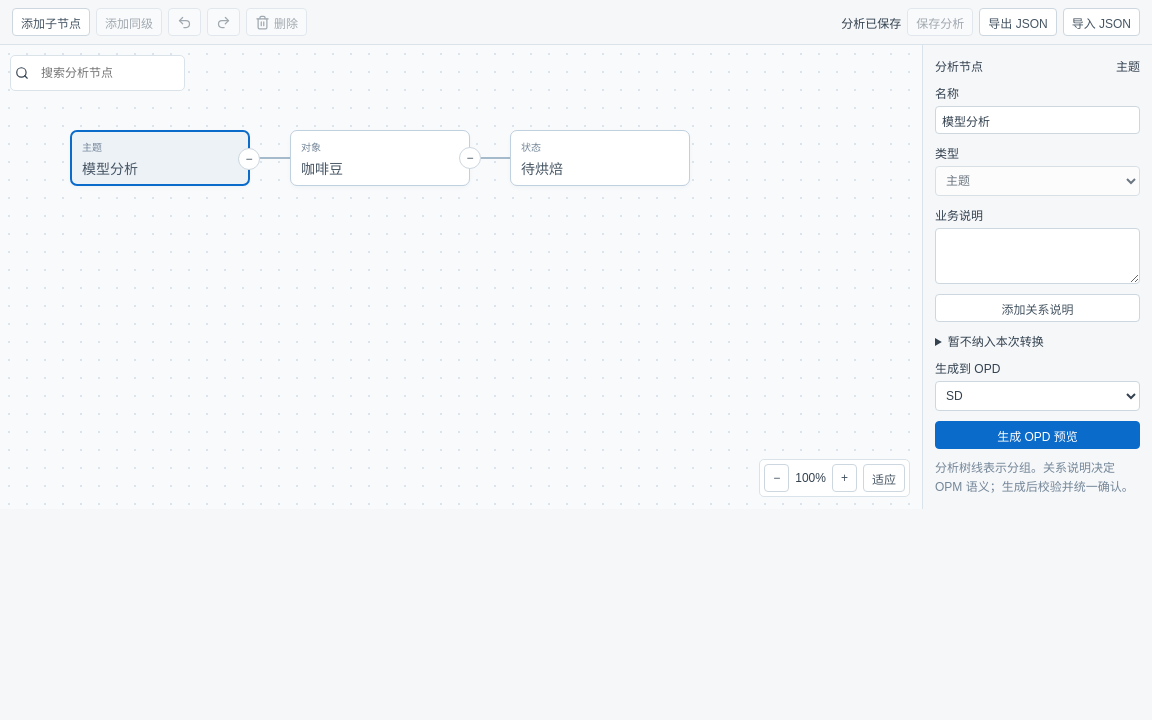
响应式文档可通过键盘编辑、撤销并保存，分析保存不提交正式命令
Press Tab in the element with test id "mindmap-canvas", box [0,45,922,509]
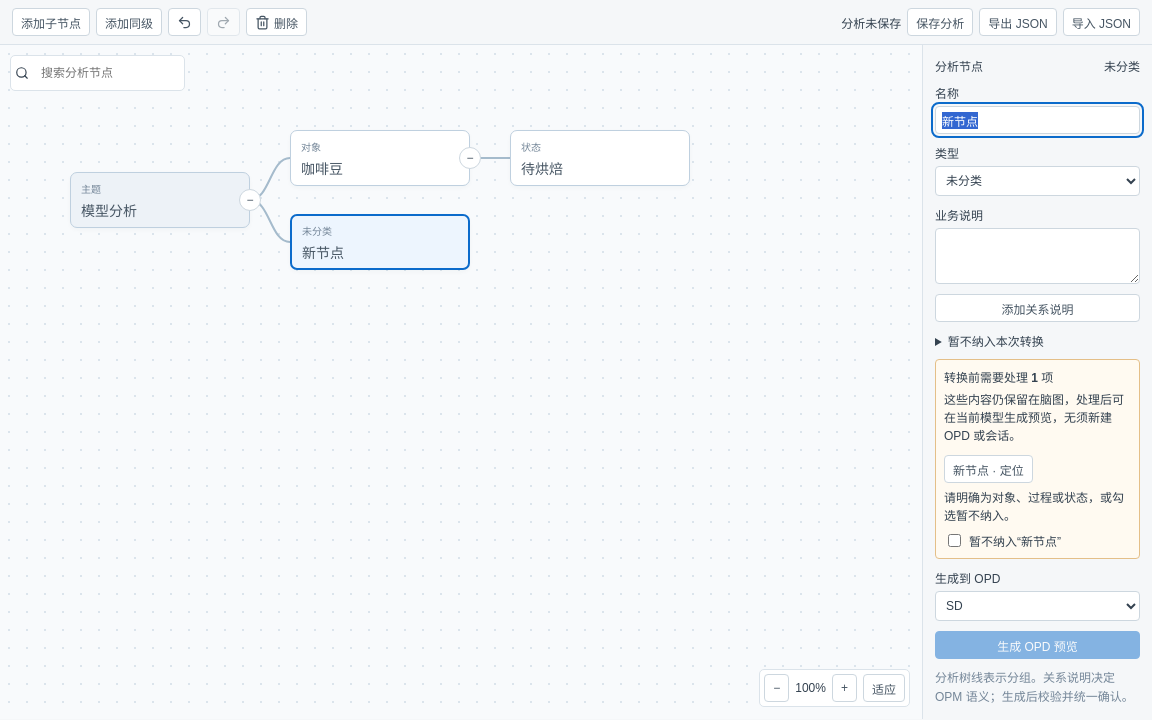
Check: the number of elements with class "mindmap-node" is 4, box [510,130,690,186]; [290,130,470,186]; [290,214,470,270]; [70,172,250,228]
Replace the text in the field with test id "mindmap-node-label" with "新增过程" at (1038, 120), box [935,106,1140,134]
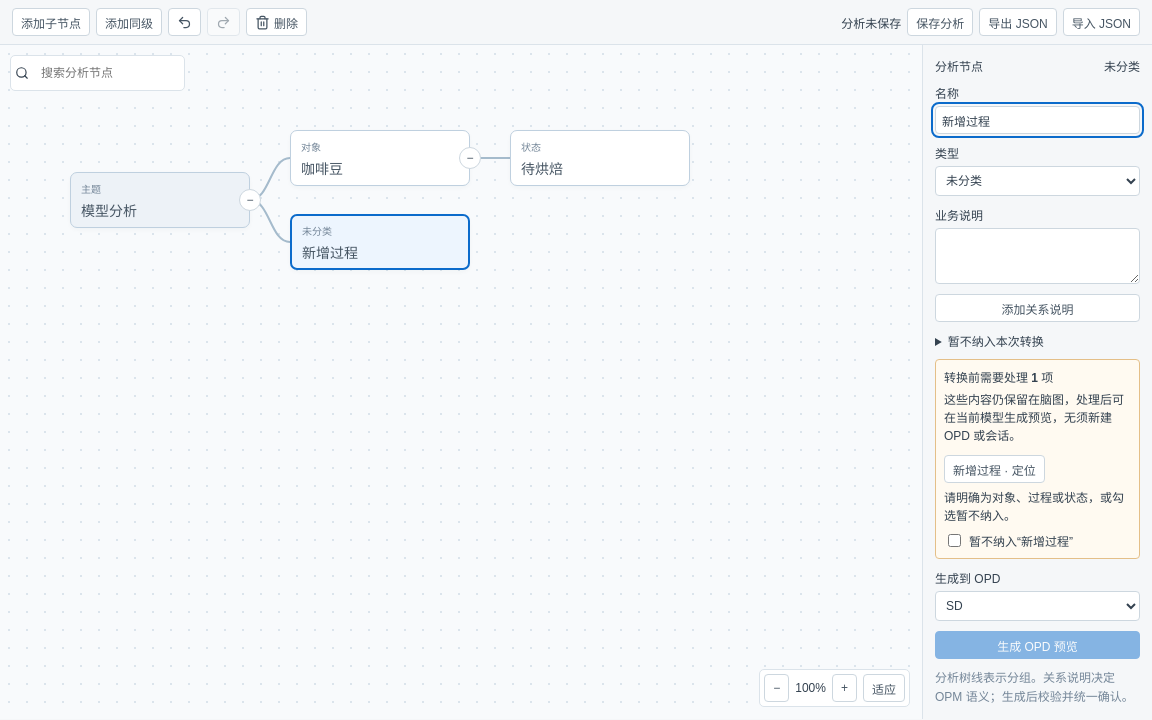
Select "过程" in the dropdown with test id "mindmap-node-kind" at (1038, 181), box [935,166,1140,196]
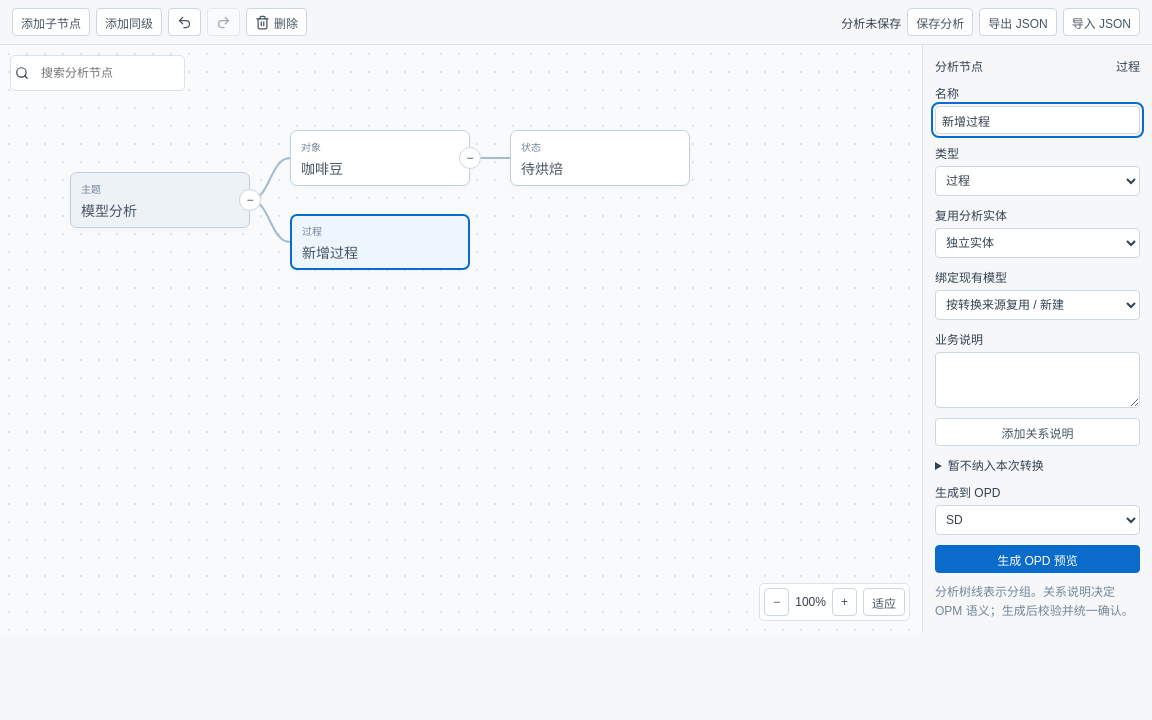
Click the button with test id "mindmap-save".
click(940, 22)  # box [907,8,973,36]
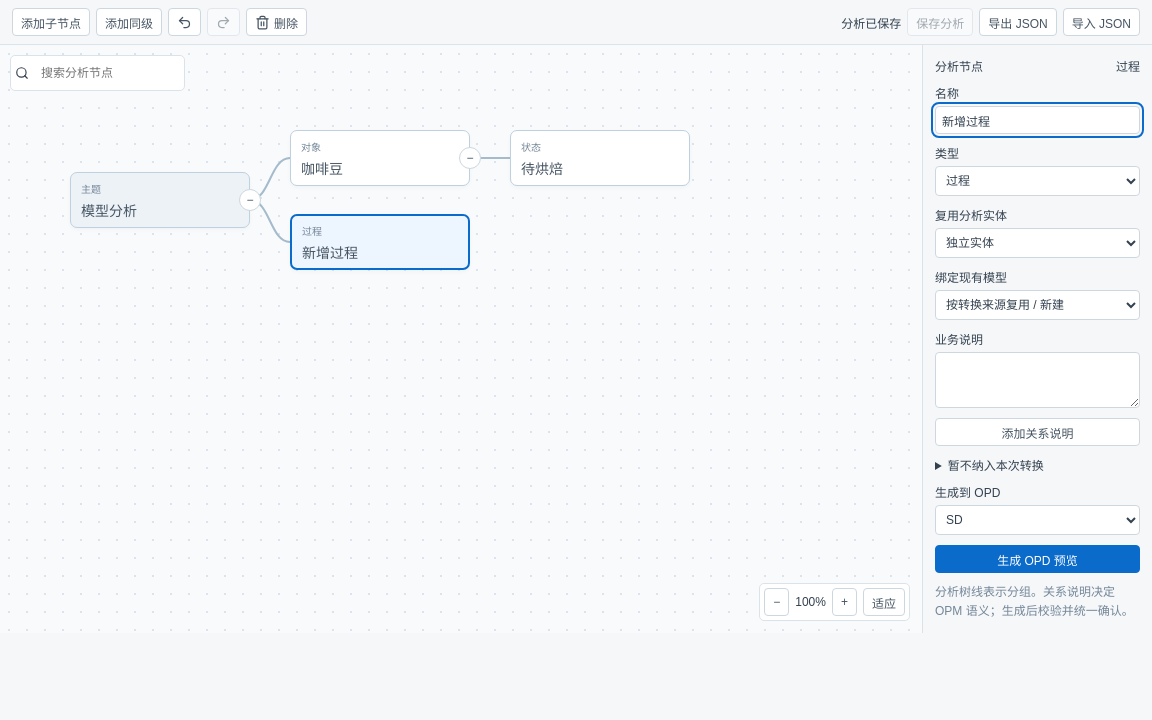
Check: the text "新增过程" is shown, box [302,242,358,262]
Check: the message with test id "mindmap-save-state" reads "分析已保存", box [841,16,901,30]
Press z in the element with test id "mindmap-canvas"
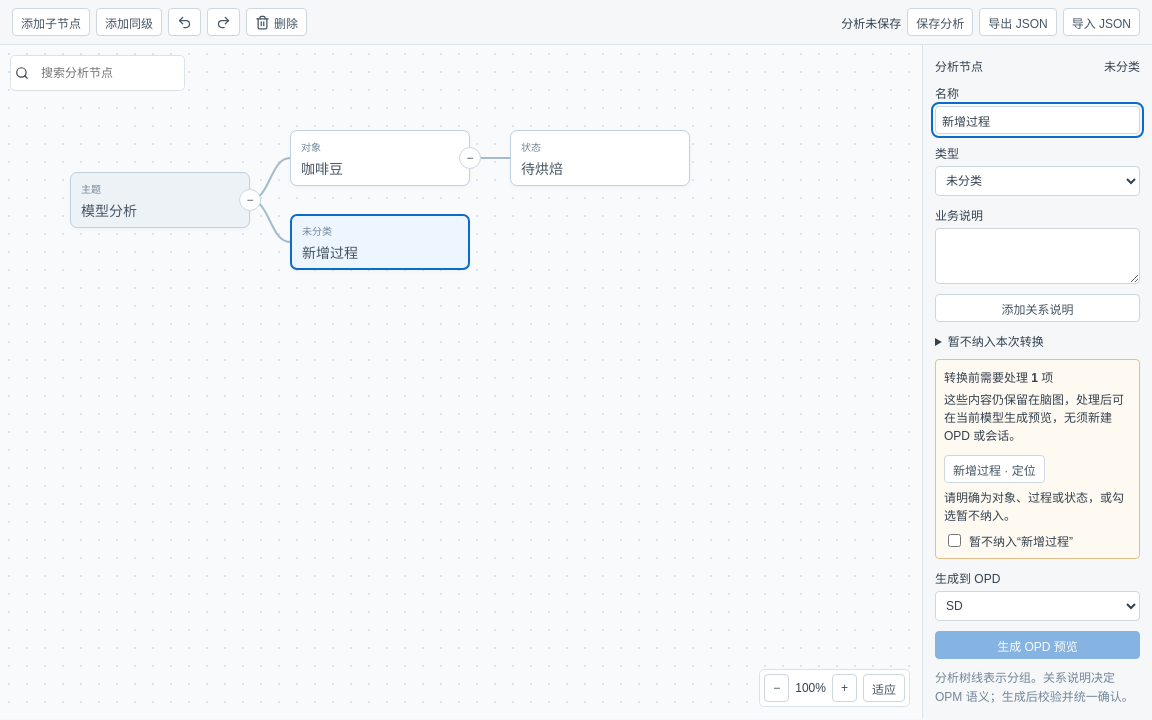
Check: the message with test id "mindmap-save-state" reads "分析未保存", box [841,16,901,30]
